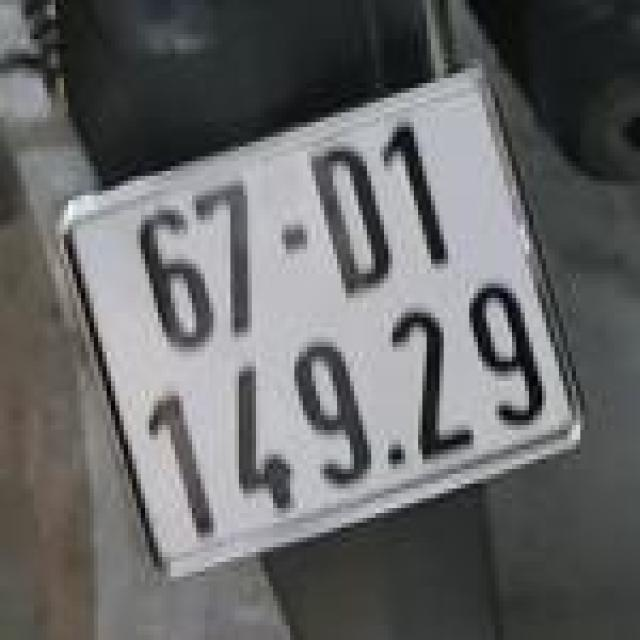1: (369, 96, 482, 288), (130, 378, 229, 557)
2: (374, 295, 492, 474)
4: (212, 346, 313, 534)
6: (129, 192, 223, 362)
7: (185, 172, 277, 355)
9: (454, 259, 561, 443), (282, 326, 386, 503)
D: (293, 128, 410, 315)
